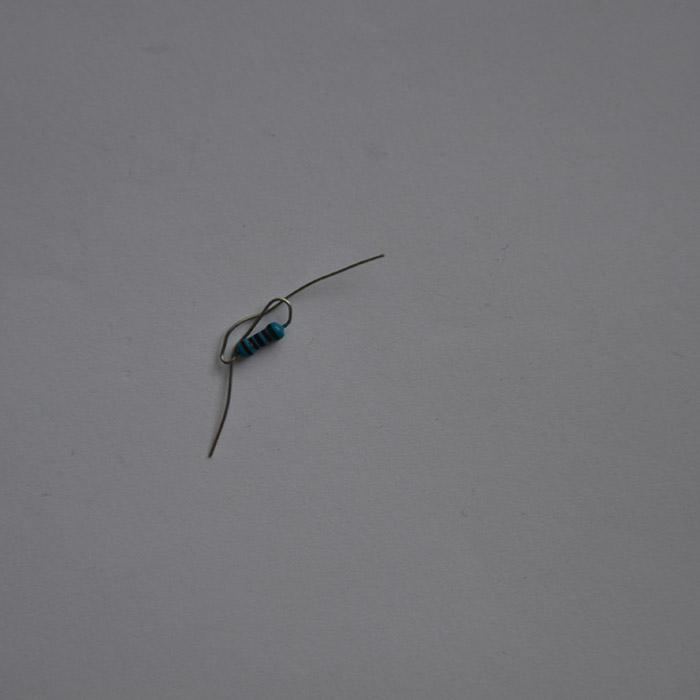resistor: (232, 320, 287, 359)
